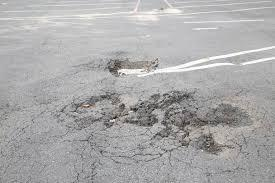alligator-crack: (72, 141, 216, 180), (20, 106, 62, 138)
pothole: (131, 95, 231, 147), (66, 87, 118, 112), (106, 62, 155, 81)
